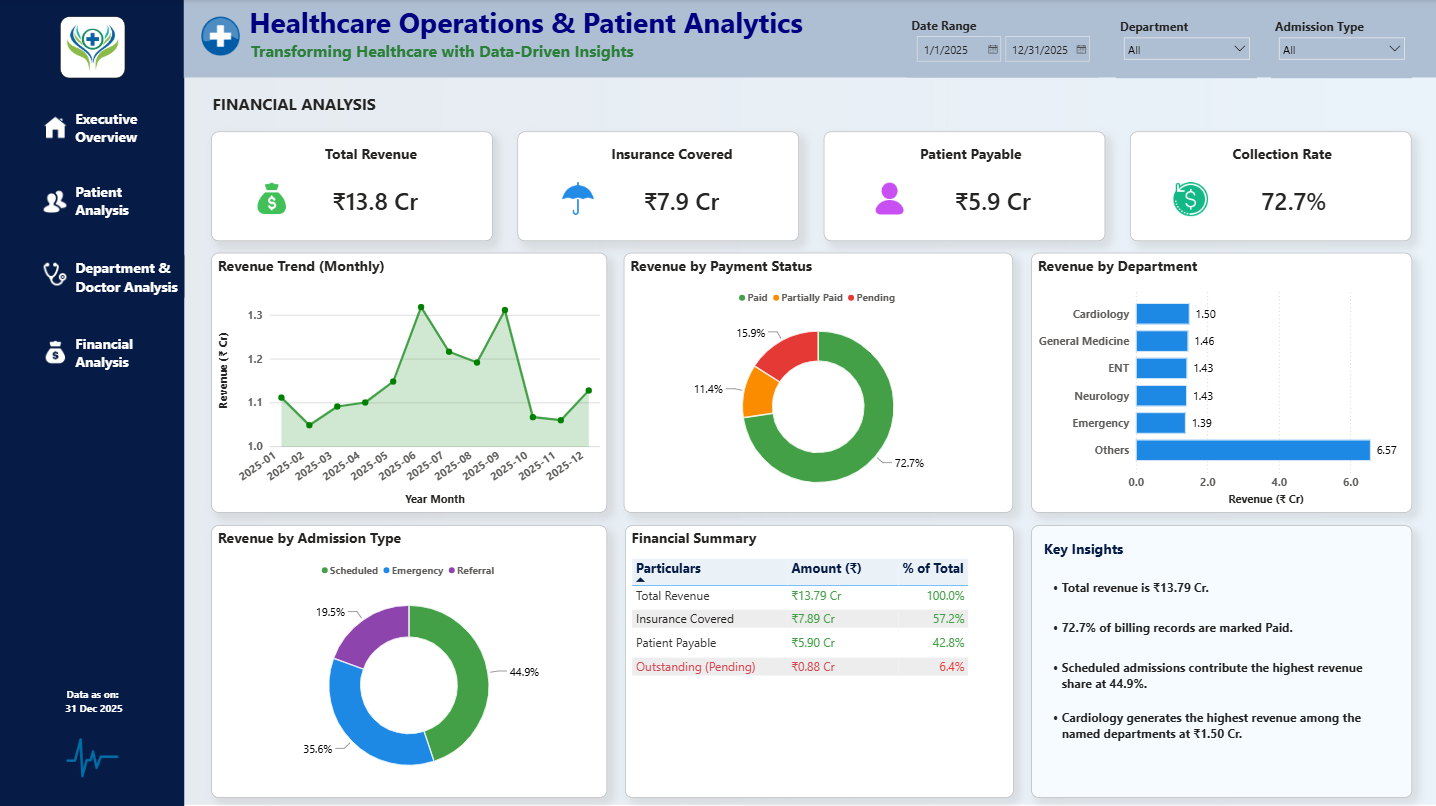

The dashboard page shown, as its layout file describes it:
{"tool":"powerbi","page":{"name":"Financial Analysis","canvas":[1920,1080],"ordinal":3},"visuals":[{"type":"group","id":"g1","title":"Group 1","box":[0,0,1920.1,1078.6],"z":0},{"type":"shape","box":[0,0,246.1,1078.6],"z":1000,"group":"g1"},{"type":"shape","box":[97.7,139.3,95.9,65.1],"z":1000},{"type":"textbox","box":[246.1,0,1673.9,105],"z":2000,"group":"g1"},{"type":"image","box":[54.3,157.4,37.4,30.2],"z":2000},{"type":"image","box":[79.6,23.5,86.9,82],"z":3000,"group":"g1"},{"type":"shape","box":[97.7,235.3,133.9,67],"z":3000},{"type":"image","box":[54.3,255.2,37,30],"z":4000},{"type":"shape","box":[97.7,336.6,148.4,67],"z":5000},{"type":"image","box":[54.3,352.9,37,30],"z":6000},{"type":"shape","box":[97.7,439.7,108.6,65.1],"z":7000},{"type":"image","box":[54.3,447,37.4,48.3],"z":8000},{"type":"actionButton","box":[39.8,139.8,166.5,65.1],"z":9000},{"type":"actionButton","box":[39.8,239.2,166.5,65.1],"z":10000},{"type":"actionButton","box":[39.8,338.6,206.3,65.1],"z":11000},{"type":"actionButton","box":[45.2,437.9,166.5,65.1],"z":12000},{"type":"image","box":[14.5,979,217,70],"z":12000,"group":"g1"},{"type":"image","box":[264.2,23.5,61.5,59.7],"z":13000,"group":"g1"},{"type":"textbox","box":[278.7,120.8,235.3,39.8],"z":13000},{"type":"cardVisual","fields":{"Data":["Admissions.Total Revenue Display"]},"box":[282.3,176.4,376,146.6],"z":14000},{"type":"textbox","box":[428.9,188.2,173.7,38],"z":15000},{"type":"cardVisual","fields":{"Data":["Admissions.Insurance Covered Display"]},"box":[691.3,177.3,376,146.6],"z":16000},{"type":"slicer","title":"Date Range","fields":{"Values":["DateTable.Date"]},"box":[1212.5,23.5,255.2,81.4],"z":17000},{"type":"textbox","box":[810.7,188.2,191.8,38],"z":18000},{"type":"cardVisual","fields":{"Data":["Admissions.Patient Payable Display"]},"box":[1100.3,177.3,376,146.6],"z":19000},{"type":"textbox","box":[1223.3,188.2,153.8,38],"z":20000},{"type":"cardVisual","fields":{"Data":["Billing.Payment Collection Rate"]},"box":[1509.3,177.3,376,146.6],"z":21000},{"type":"textbox","box":[1641.4,188.2,150.2,38],"z":22000},{"type":"areaChart","title":"Revenue Trend (Monthly)","fields":{"Category":["DateTable.Year Month"],"Y":["Admissions.Revenue (₹ Cr)"]},"box":[282.3,338.9,528.4,347.5],"z":23000},{"type":"donutChart","title":"Revenue by Payment Status","fields":{"Category":["Billing.PaymentStatus"],"Y":["Billing.Total Revenue"]},"box":[833.9,338.4,520,347.5],"z":24000},{"type":"clusteredBarChart","title":"Revenue by Department","fields":{"Category":["Admissions.Revenue Department Group"],"Y":["Admissions.Revenue by Department (₹ Cr)"]},"box":[1377.2,338.4,508.5,347.5],"z":25000},{"type":"donutChart","title":"Revenue by Admission Type","fields":{"Category":["Admissions.AdmissionType"],"Y":["Billing.Total Revenue"]},"box":[282.3,702.1,528.4,363.7],"z":26000},{"type":"tableEx","title":"Financial Summary","fields":{"Values":["Financial Summary.Particulars","Admissions.Financial Summary Amount Display","Admissions.Financial Summary % of Total"]},"box":[834.3,702.1,519.4,363.7],"z":27000},{"type":"slicer","title":"Admission Type","fields":{"Values":["Admissions.AdmissionType"]},"box":[1697.5,25.3,188,81],"z":28000},{"type":"shape","box":[1377.2,702.1,508.5,363.7],"z":29000},{"type":"textbox","box":[1389.8,716.6,307.6,41.6],"z":30000},{"type":"textbox","box":[1389.8,770,351.1,41.6],"z":31000},{"type":"textbox","box":[1389.8,823.4,351.1,41.6],"z":32000},{"type":"textbox","box":[1389.8,876.8,447,54.3],"z":33000},{"type":"textbox","box":[1389.8,942.8,447,54.3],"z":34000},{"type":"slicer","title":"Department","fields":{"Values":["Departments.DepartmentName"]},"box":[1491.2,25.3,188.2,81],"z":44000,"group":"g1"},{"type":"textbox","box":[14.5,915.7,217.2,54.3],"z":51000,"group":"g1"}]}

Visuals, with their boxes on the page's 1920x1080 design canvas (x1, y1, x2, y2). These are canvas units, not pixel positions in the 1436x806 screenshot, which may show the page scaled, cropped or inside an application window:
"Group 1" group: (left=0, top=0, right=1920, bottom=1079)
shape: (left=0, top=0, right=246, bottom=1079)
shape: (left=98, top=139, right=194, bottom=204)
textbox: (left=246, top=0, right=1920, bottom=105)
image: (left=54, top=157, right=92, bottom=188)
image: (left=80, top=24, right=166, bottom=106)
shape: (left=98, top=235, right=232, bottom=302)
image: (left=54, top=255, right=91, bottom=285)
shape: (left=98, top=337, right=246, bottom=404)
image: (left=54, top=353, right=91, bottom=383)
shape: (left=98, top=440, right=206, bottom=505)
image: (left=54, top=447, right=92, bottom=495)
actionButton: (left=40, top=140, right=206, bottom=205)
actionButton: (left=40, top=239, right=206, bottom=304)
actionButton: (left=40, top=339, right=246, bottom=404)
actionButton: (left=45, top=438, right=212, bottom=503)
image: (left=14, top=979, right=232, bottom=1049)
image: (left=264, top=24, right=326, bottom=83)
textbox: (left=279, top=121, right=514, bottom=161)
cardVisual - Admissions.Total Revenue Display: (left=282, top=176, right=658, bottom=323)
textbox: (left=429, top=188, right=603, bottom=226)
cardVisual - Admissions.Insurance Covered Display: (left=691, top=177, right=1067, bottom=324)
"Date Range" slicer: (left=1212, top=24, right=1468, bottom=105)
textbox: (left=811, top=188, right=1002, bottom=226)
cardVisual - Admissions.Patient Payable Display: (left=1100, top=177, right=1476, bottom=324)
textbox: (left=1223, top=188, right=1377, bottom=226)
cardVisual - Billing.Payment Collection Rate: (left=1509, top=177, right=1885, bottom=324)
textbox: (left=1641, top=188, right=1792, bottom=226)
"Revenue Trend (Monthly)" areaChart: (left=282, top=339, right=811, bottom=686)
"Revenue by Payment Status" donutChart: (left=834, top=338, right=1354, bottom=686)
"Revenue by Department" clusteredBarChart: (left=1377, top=338, right=1886, bottom=686)
"Revenue by Admission Type" donutChart: (left=282, top=702, right=811, bottom=1066)
"Financial Summary" tableEx: (left=834, top=702, right=1354, bottom=1066)
"Admission Type" slicer: (left=1698, top=25, right=1886, bottom=106)
shape: (left=1377, top=702, right=1886, bottom=1066)
textbox: (left=1390, top=717, right=1697, bottom=758)
textbox: (left=1390, top=770, right=1741, bottom=812)
textbox: (left=1390, top=823, right=1741, bottom=865)
textbox: (left=1390, top=877, right=1837, bottom=931)
textbox: (left=1390, top=943, right=1837, bottom=997)
"Department" slicer: (left=1491, top=25, right=1679, bottom=106)
textbox: (left=14, top=916, right=232, bottom=970)
